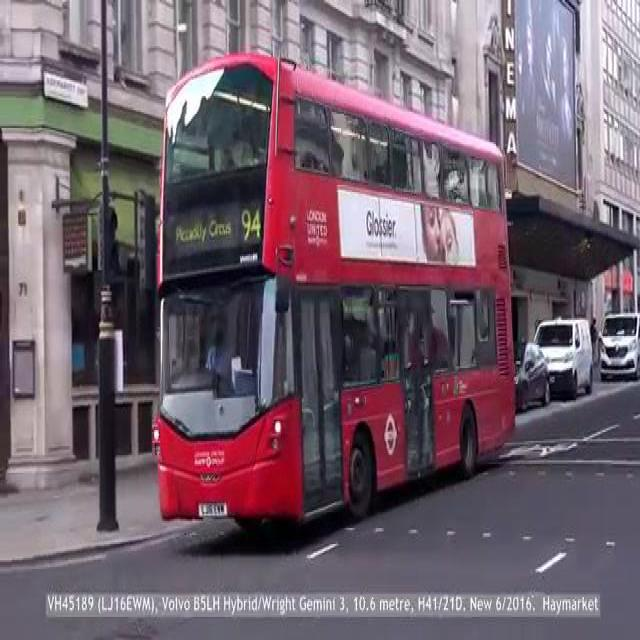motorcycle: (141, 30, 531, 544)
